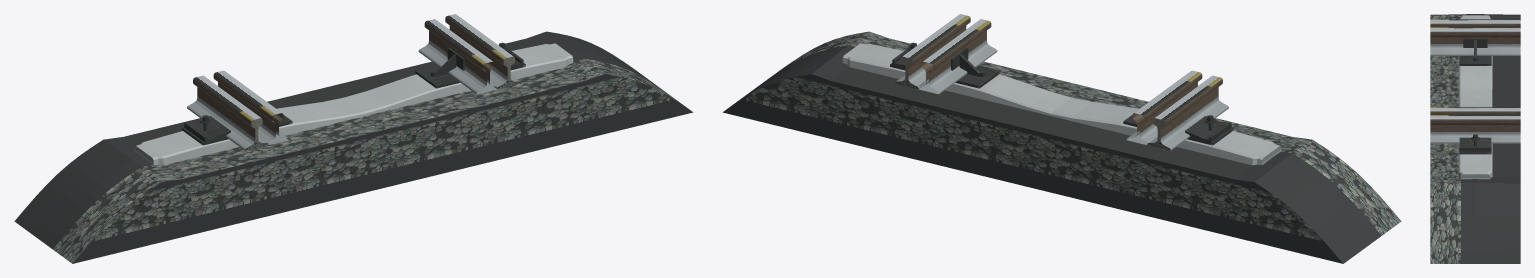
The model's file is outer_guard_mid.obj.
3 views of the same model, side by side, from view 1: azimuth 30°, elevation 25°; view 2: azimuth 150°, elevation 25°; view 3: azimuth 270°, elevation 25° (orthographic). The views are drawn at different scales.
Parts seen in each view (by area): view 1: ballast, sleeper, outer_guard_right, rail_left, outer_guard_left, rail_right, outer_fastener_right, fastener_left; view 2: ballast, sleeper, outer_guard_right, rail_left, outer_guard_left, rail_right, outer_fastener_right, fastener_left; view 3: ballast, sleeper, rail_right, outer_guard_left, rail_left, outer_guard_right, outer_fastener_left, fastener_right, outer_fastener_right.
Boxes of the visible parts, x1,y1,x2,y2 form: ballast: [14, 31, 693, 263]; sleeper: [134, 43, 573, 165]; outer_guard_right: [418, 19, 498, 94]; rail_left: [187, 75, 266, 150]; outer_guard_left: [213, 70, 289, 144]; rail_right: [445, 14, 519, 88]; outer_fastener_right: [415, 47, 525, 88]; fastener_left: [184, 115, 230, 142]; ballast: [722, 31, 1401, 263]; sleeper: [842, 43, 1281, 165]; outer_guard_right: [917, 19, 997, 94]; rail_left: [1149, 75, 1228, 150]; outer_guard_left: [1126, 70, 1202, 144]; rail_right: [896, 14, 970, 88]; outer_fastener_right: [890, 47, 1000, 88]; fastener_left: [1185, 115, 1231, 142]; ballast: [1430, 14, 1520, 263]; sleeper: [1458, 15, 1492, 179]; rail_right: [1430, 115, 1520, 143]; outer_guard_left: [1430, 27, 1520, 55]; rail_left: [1430, 19, 1520, 27]; outer_guard_right: [1430, 107, 1520, 114]; outer_fastener_left: [1459, 38, 1491, 65]; fastener_right: [1459, 134, 1491, 151]; outer_fastener_right: [1459, 144, 1491, 154].
Bounding box in the file's own units: 3.7 × 0.5683 × 0.6.
